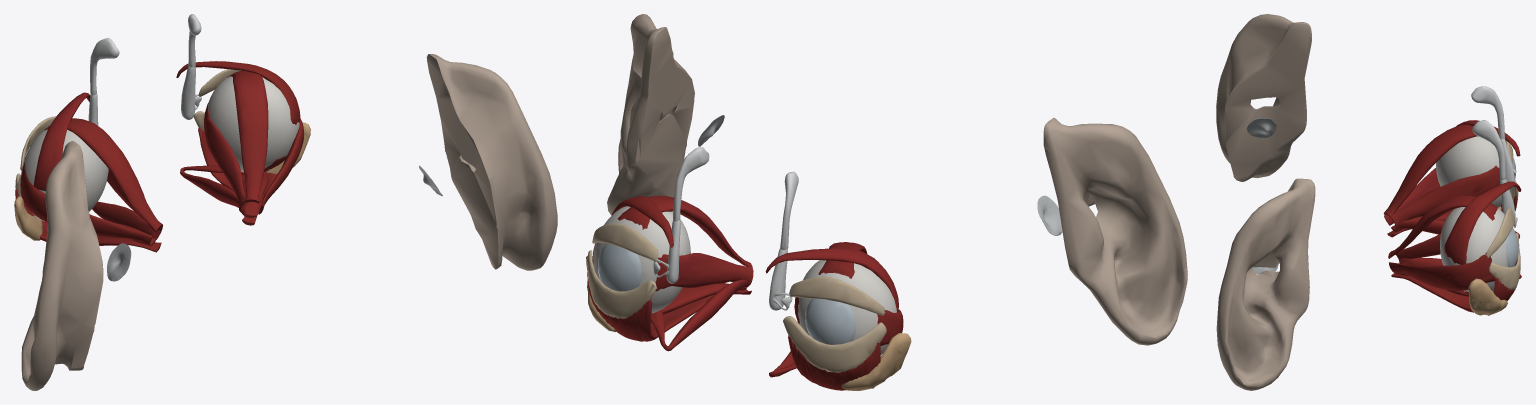
Rendered from senseOrgans.glb.
3 renders of one model, left to right at view 1: azimuth 30°, elevation 25°; view 2: azimuth 150°, elevation 25°; view 3: azimuth 270°, elevation 25°, orthographic. The views are drawn at different scales.
Parts seen in each view (by area): view 1: FJ2811, FJ1317, FJ1295, FJ1346, FJ1368, FJ1345, FJ1355, FJ1308, FJ1294, FJ1322, FJ1373, FJ1304 (+7 smaller); view 2: FJ2811, FJ1375, FJ1317, FJ1368, FJ1308, FJ1306, FJ1340, FJ1324, FJ1379, FJ1295, FJ1289, FJ1345 (+13 smaller); view 3: FJ2811, FJ1368, FJ1317, FJ1304, FJ1359, FJ1346, FJ1294, FJ1295, FJ1299, FJ1306, FJ1302, FJ1353 (+9 smaller).
Part boxes in pixels (x1,y1,x2,y2): FJ2811: (21,54,557,390); FJ1317: (208,76,299,172); FJ1295: (227,70,268,203); FJ1346: (44,118,162,232); FJ1368: (21,129,108,221); FJ1345: (33,92,90,191); FJ1355: (20,162,152,245); FJ1308: (204,103,245,212); FJ1294: (176,61,300,124); FJ1322: (180,156,286,214); FJ1373: (43,201,160,239); FJ1304: (258,118,303,214); FJ2811: (607,14,1187,345); FJ1375: (783,316,886,372); FJ1317: (593,206,690,313); FJ1368: (798,260,896,355); FJ1308: (655,253,753,291); FJ1306: (587,272,751,341); FJ1340: (805,298,855,344); FJ1324: (587,250,656,318); FJ1379: (789,276,884,315); FJ1295: (617,196,752,267); FJ1289: (598,243,641,291); FJ1345: (765,247,898,312); FJ2811: (1216,14,1315,390); FJ1368: (1436,136,1510,207); FJ1317: (1440,207,1507,292); FJ1304: (1389,252,1494,290); FJ1359: (1390,165,1499,228); FJ1346: (1383,124,1477,217); FJ1294: (1444,181,1521,264); FJ1295: (1388,195,1498,258); FJ1299: (1468,278,1507,315); FJ1306: (1391,261,1516,312); FJ1302: (1472,120,1506,179); FJ1353: (1471,86,1504,139).
Size of the model in its own units: 155 by 59.15 by 88.48.
